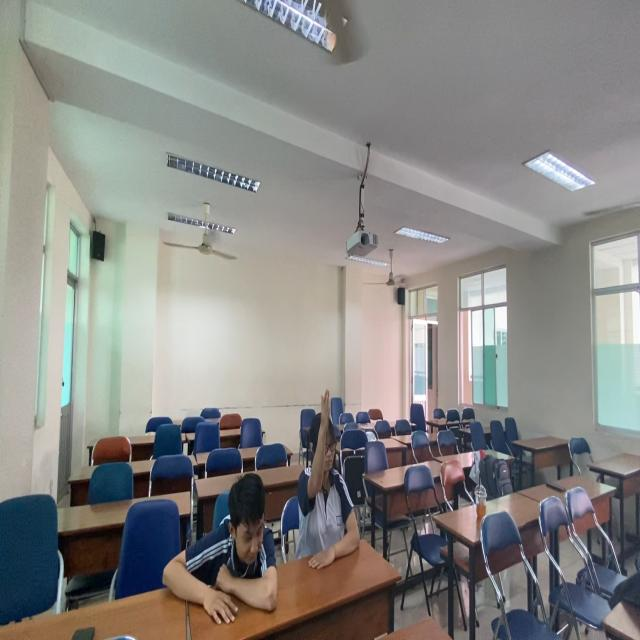raise_hand: (296, 387, 366, 582)
sleep: (155, 469, 283, 619)
